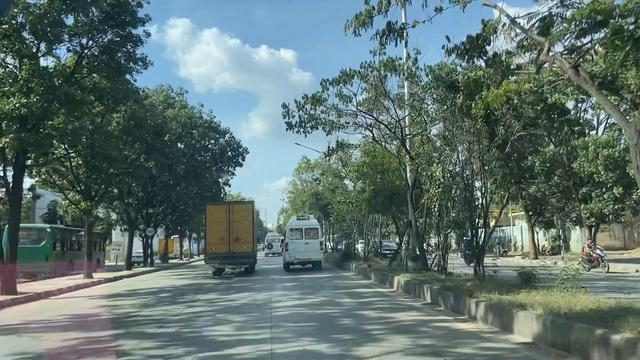HMV: (203, 204, 256, 276), (283, 219, 324, 272)
